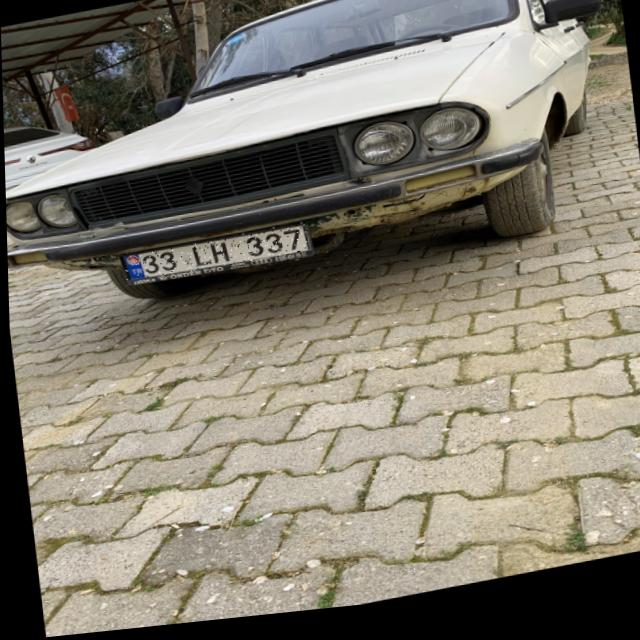license_plate: (120, 227, 309, 288)
